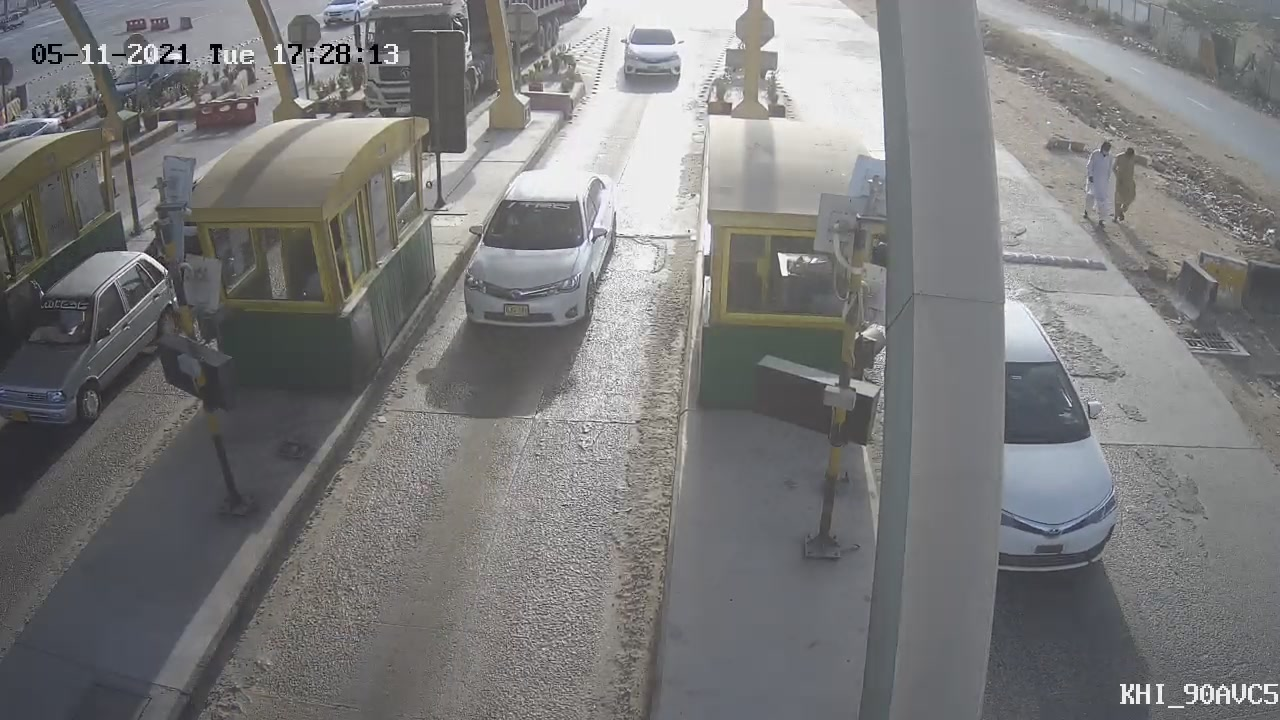F1: (439, 151, 638, 351)
